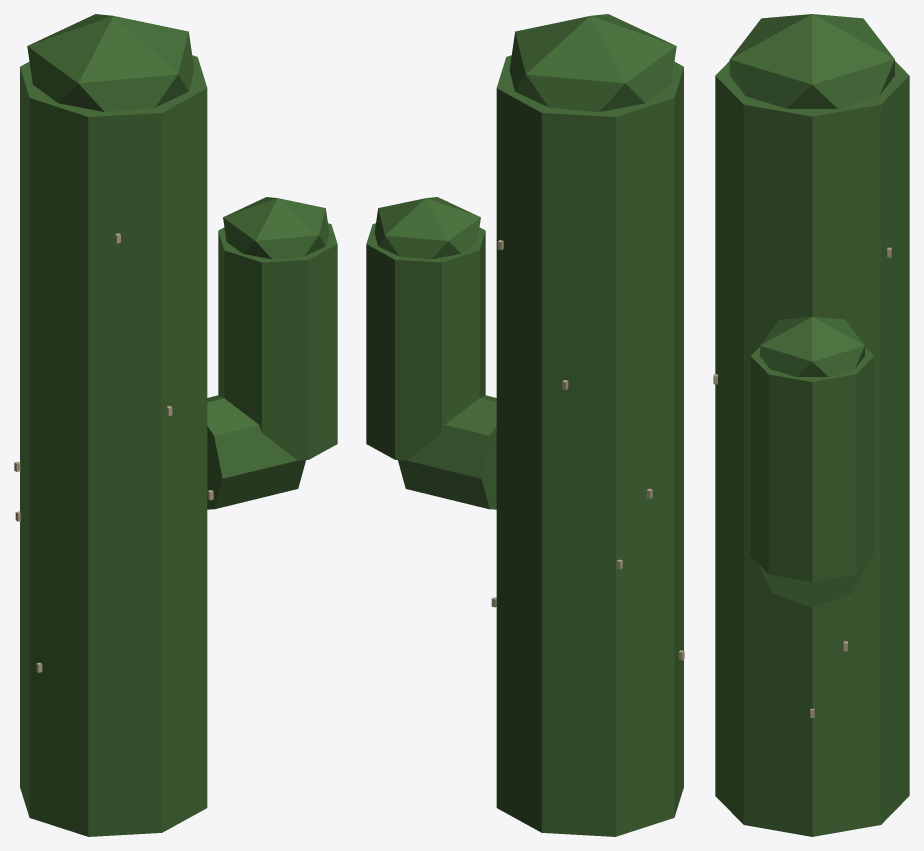
Rendered from bg_desert_cactus_2_lod0.glb.
The picture shows the model from 3 angles, left to right: view 1: azimuth 30°, elevation 25°; view 2: azimuth 150°, elevation 25°; view 3: azimuth 270°, elevation 25°; orthographic projection.
Parts seen in each view (by area): view 1: body; view 2: body; view 3: body.
Part boxes in pixels (bbox=[...]): body: bbox=[14, 14, 337, 836]; body: bbox=[366, 14, 684, 836]; body: bbox=[713, 14, 909, 836].
Size of the model in its own units: 0.7916 by 1.95 by 0.4442.
